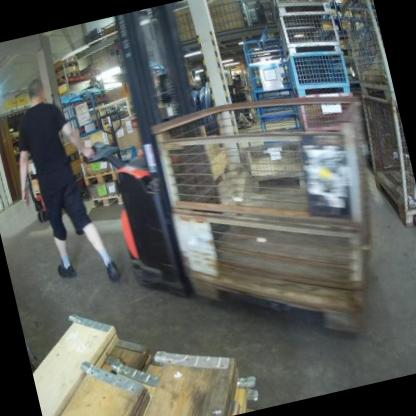pallet: (208, 159, 235, 191), (82, 167, 119, 190), (89, 191, 125, 213), (53, 59, 80, 75), (55, 70, 81, 82)
pallet_truck: (50, 4, 242, 315), (91, 99, 151, 200), (14, 154, 67, 230)
stillage: (149, 72, 397, 372), (352, 86, 416, 239), (334, 0, 396, 109), (279, 41, 354, 106), (269, 0, 344, 64), (240, 128, 311, 195), (293, 84, 362, 136), (95, 95, 140, 128), (268, 0, 334, 22)
